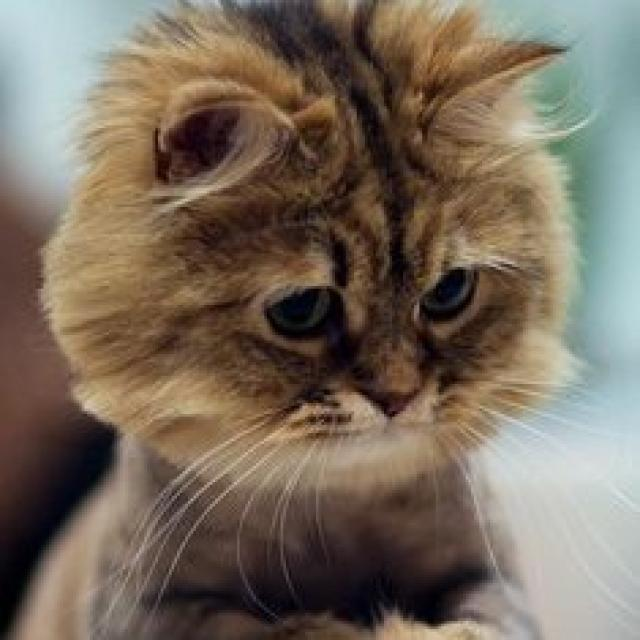Sad: (220, 190, 524, 477)
